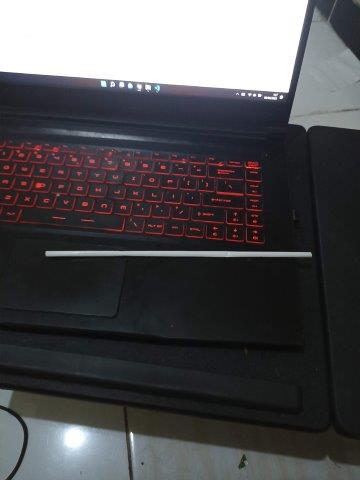sedotan: (45, 250, 312, 258)
